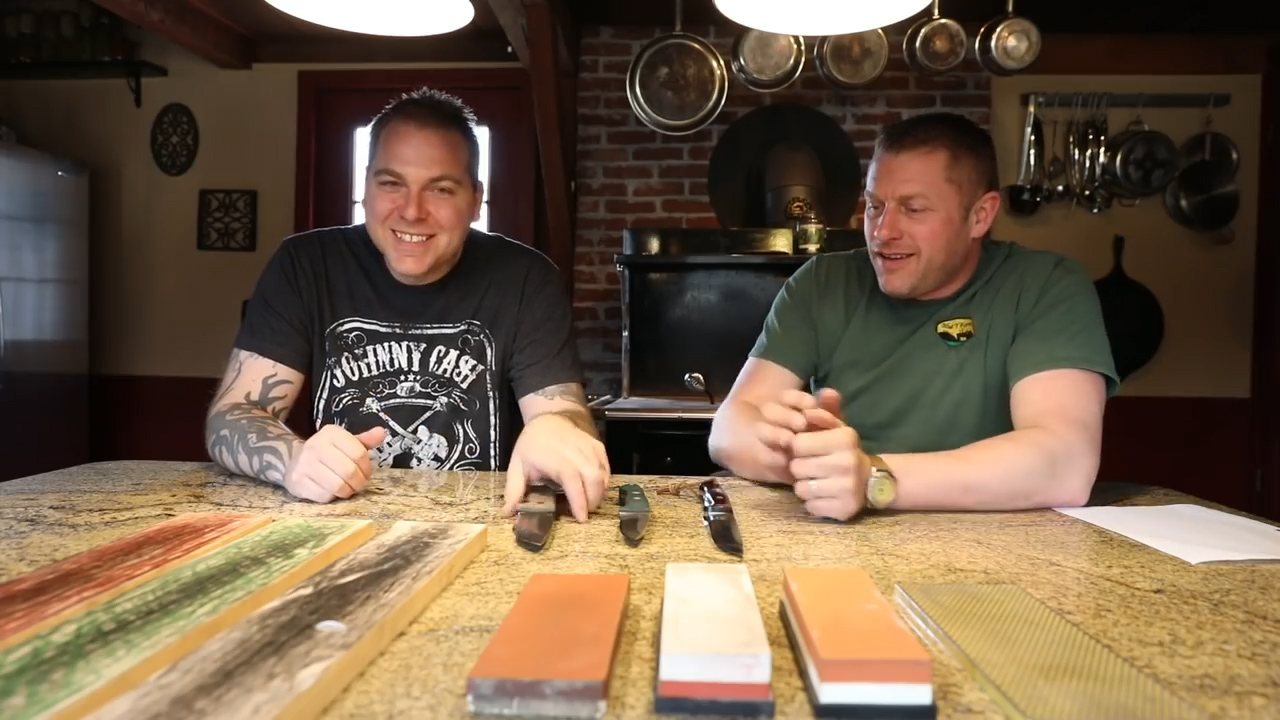knife: (502, 453, 613, 557)
